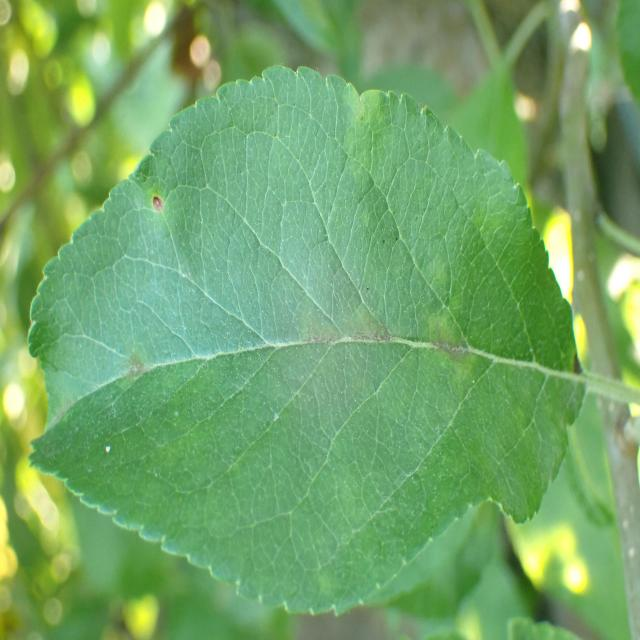frog-eye-leaf-spot: (26, 64, 587, 617)
